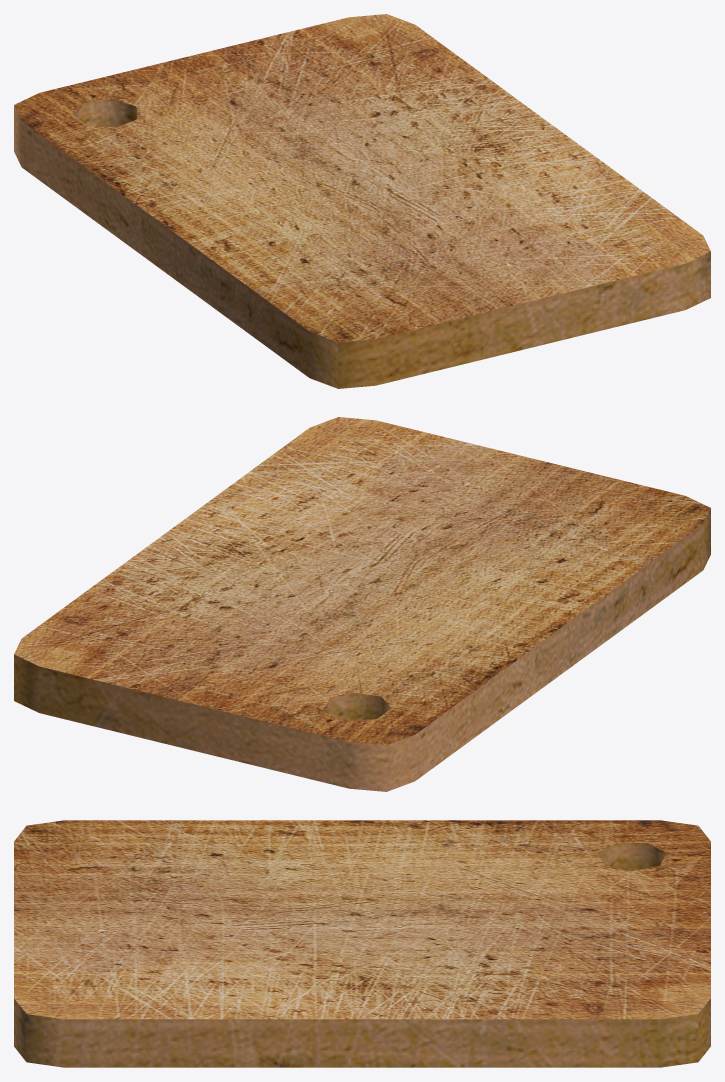
The model's file is cutting_board.FBX.
3 views of the same model, one above another, from view 1: azimuth 30°, elevation 25°; view 2: azimuth 150°, elevation 25°; view 3: azimuth 270°, elevation 25° (orthographic). The views are drawn at different scales.
Visible parts, largest first — view 1: Box001; view 2: Box001; view 3: Box001.
Boxes of the visible parts, bbox=[...] form: Box001: bbox=[14, 14, 710, 388]; Box001: bbox=[14, 417, 710, 791]; Box001: bbox=[14, 820, 710, 1067].
Bounding box in the file's own units: 21.12 × 2.39 × 31.27.
1 material, 1 textured.
